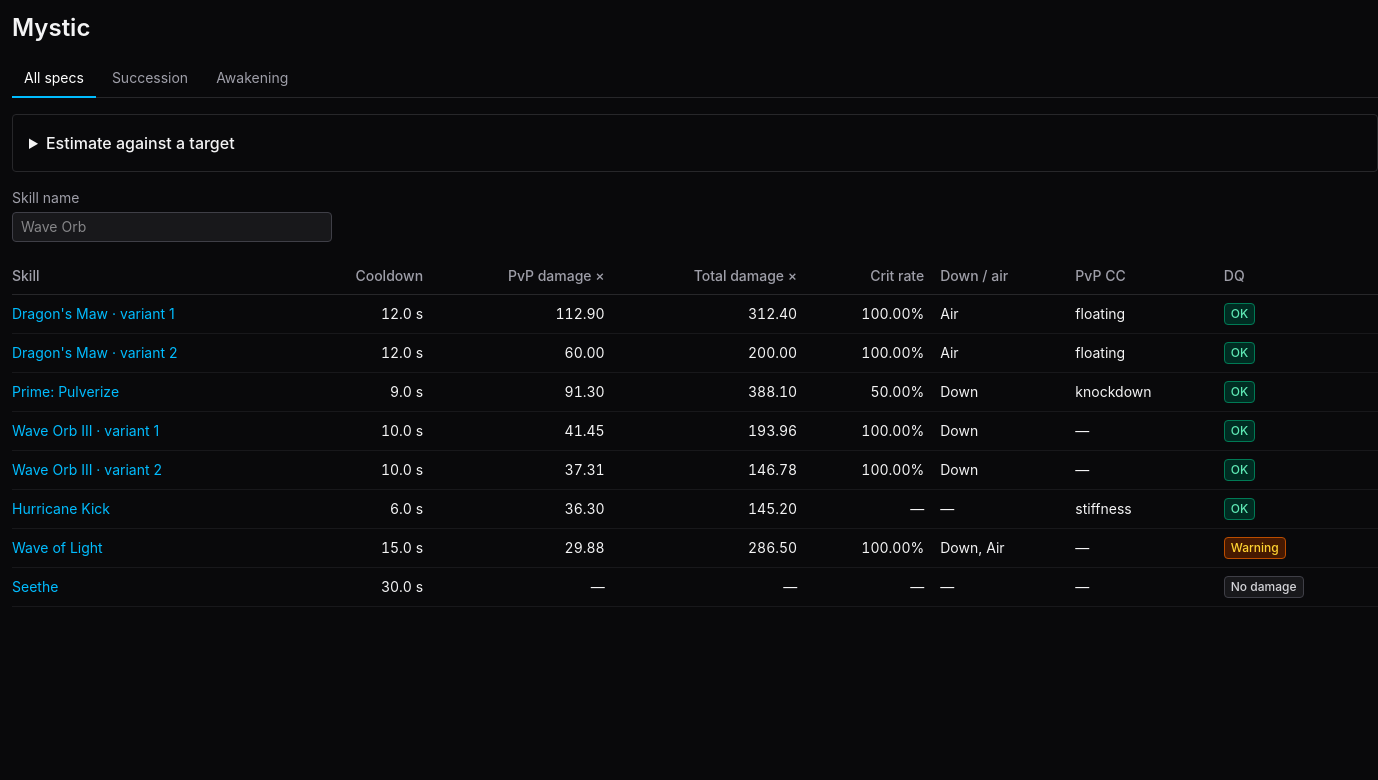
it: ClassSkillsPage › switches spec tab and updates the URL
Click the link "Awakening" at (252, 78), box [216,69,288,86]
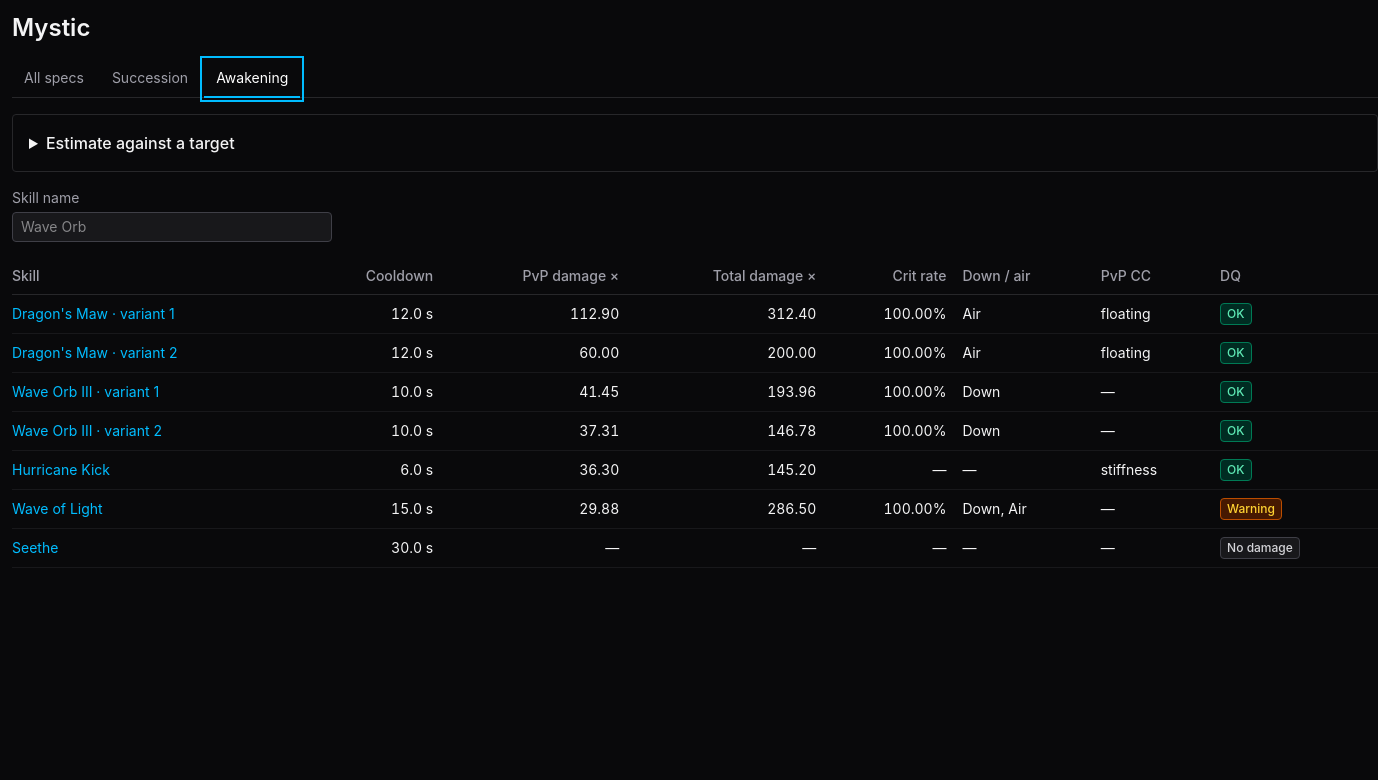
Expected: the link "Dragon's Maw · variant 1" is shown, [12,305,175,322]
Now the link "Prime: Pulverize" is gone
